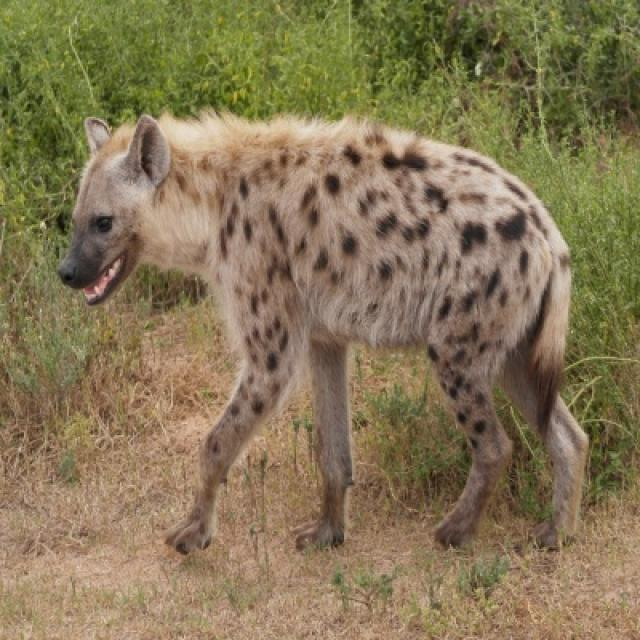hyena: (54, 109, 590, 558)
